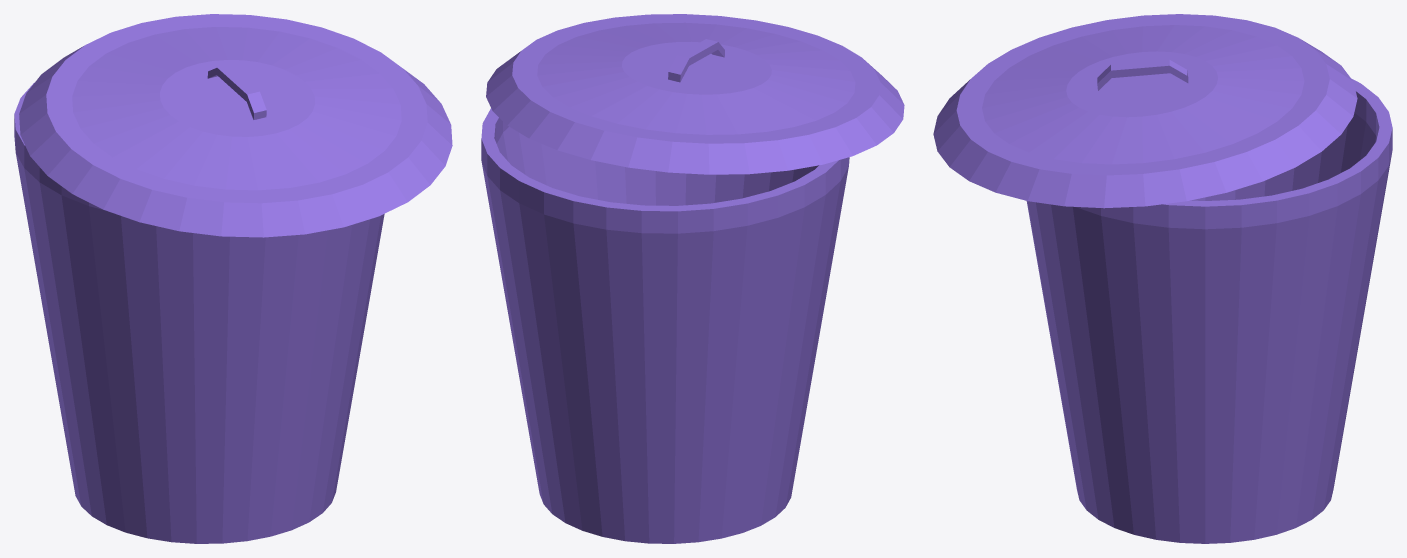
Rendered from trashcan.fbx.
3 renders of one model, left to right at view 1: azimuth 30°, elevation 25°; view 2: azimuth 150°, elevation 25°; view 3: azimuth 270°, elevation 25°, orthographic. The views are drawn at different scales.
Parts seen in each view (by area): view 1: trash, lid, handle; view 2: trash, lid, handle; view 3: trash, lid, handle.
Boxes of the visible parts, x1,y1,x2,y2 form: trash: (14,82,384,543); lid: (19,14,452,237); handle: (207,64,266,119); trash: (481,108,849,543); lid: (486,14,904,174); handle: (668,39,724,82); trash: (1026,78,1392,543); lid: (933,14,1357,208); handle: (1097,59,1188,90).
Size of the model in its own units: 227 by 251 by 245.
